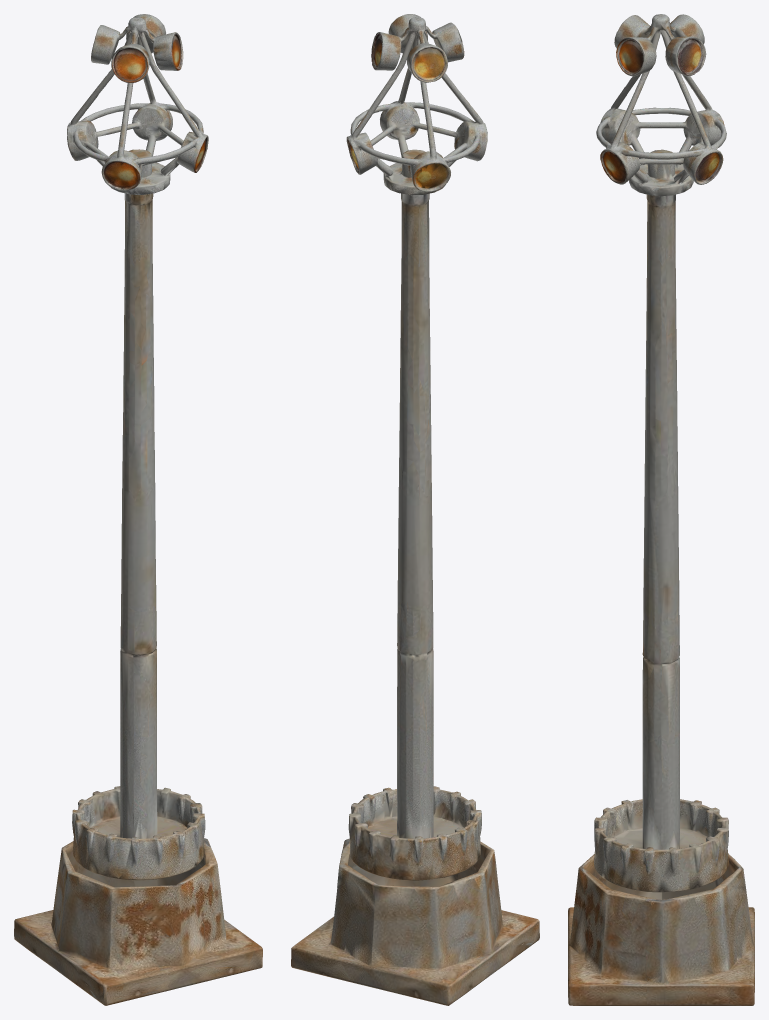
File: vnMast.b06dac29.glb
The picture shows the model from 3 angles, left to right: view 1: azimuth 30°, elevation 25°; view 2: azimuth 150°, elevation 25°; view 3: azimuth 270°, elevation 25°; orthographic projection.
Size of the model in its own units: 0.339 by 1.9 by 0.3393.
1 material, 1 textured.
